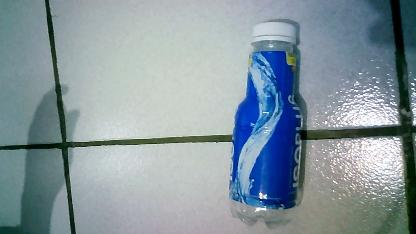Plastic Bottle: (218, 14, 322, 226)
